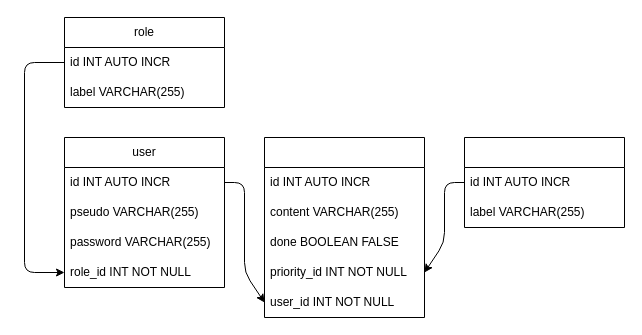
The diagram is 642 pixels wide and 335 high, and some of its shapes have lost their labels. Each missing label, with the box of its shape:
priority: (464, 136, 624, 228)
thing: (264, 136, 424, 318)
